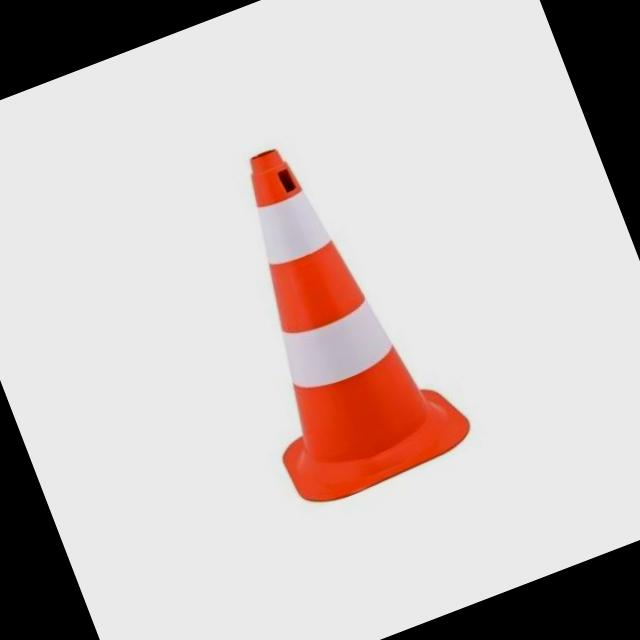cone: (156, 70, 510, 516)
